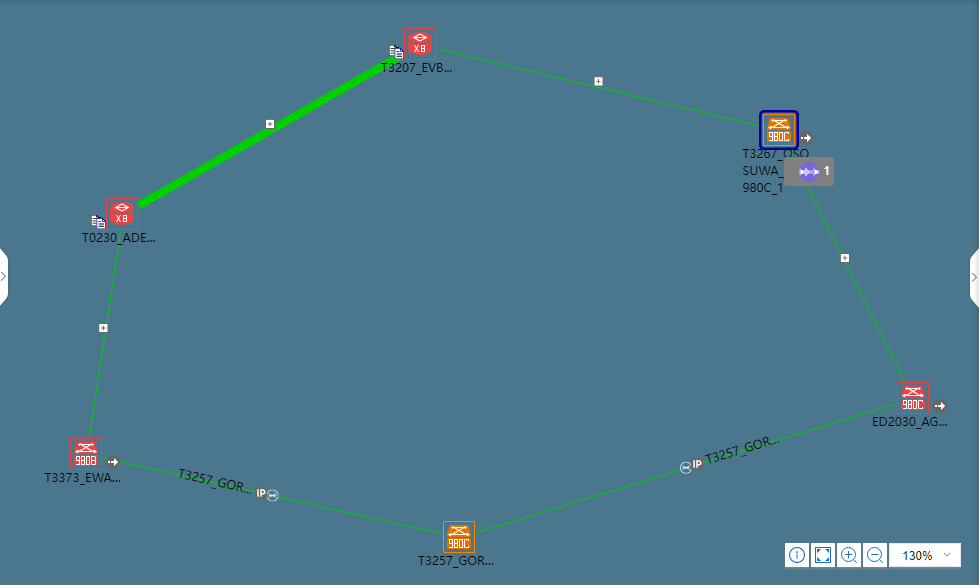ATN_Orange: (444, 522, 471, 549), (768, 118, 791, 147)
ATN_Red: (896, 381, 932, 416), (70, 442, 98, 471)
Link_Green: (474, 400, 901, 539), (138, 57, 398, 207), (107, 455, 441, 536), (437, 45, 757, 126), (805, 185, 904, 380), (89, 234, 124, 419)
Router_Red: (107, 198, 136, 233), (407, 32, 436, 62)
